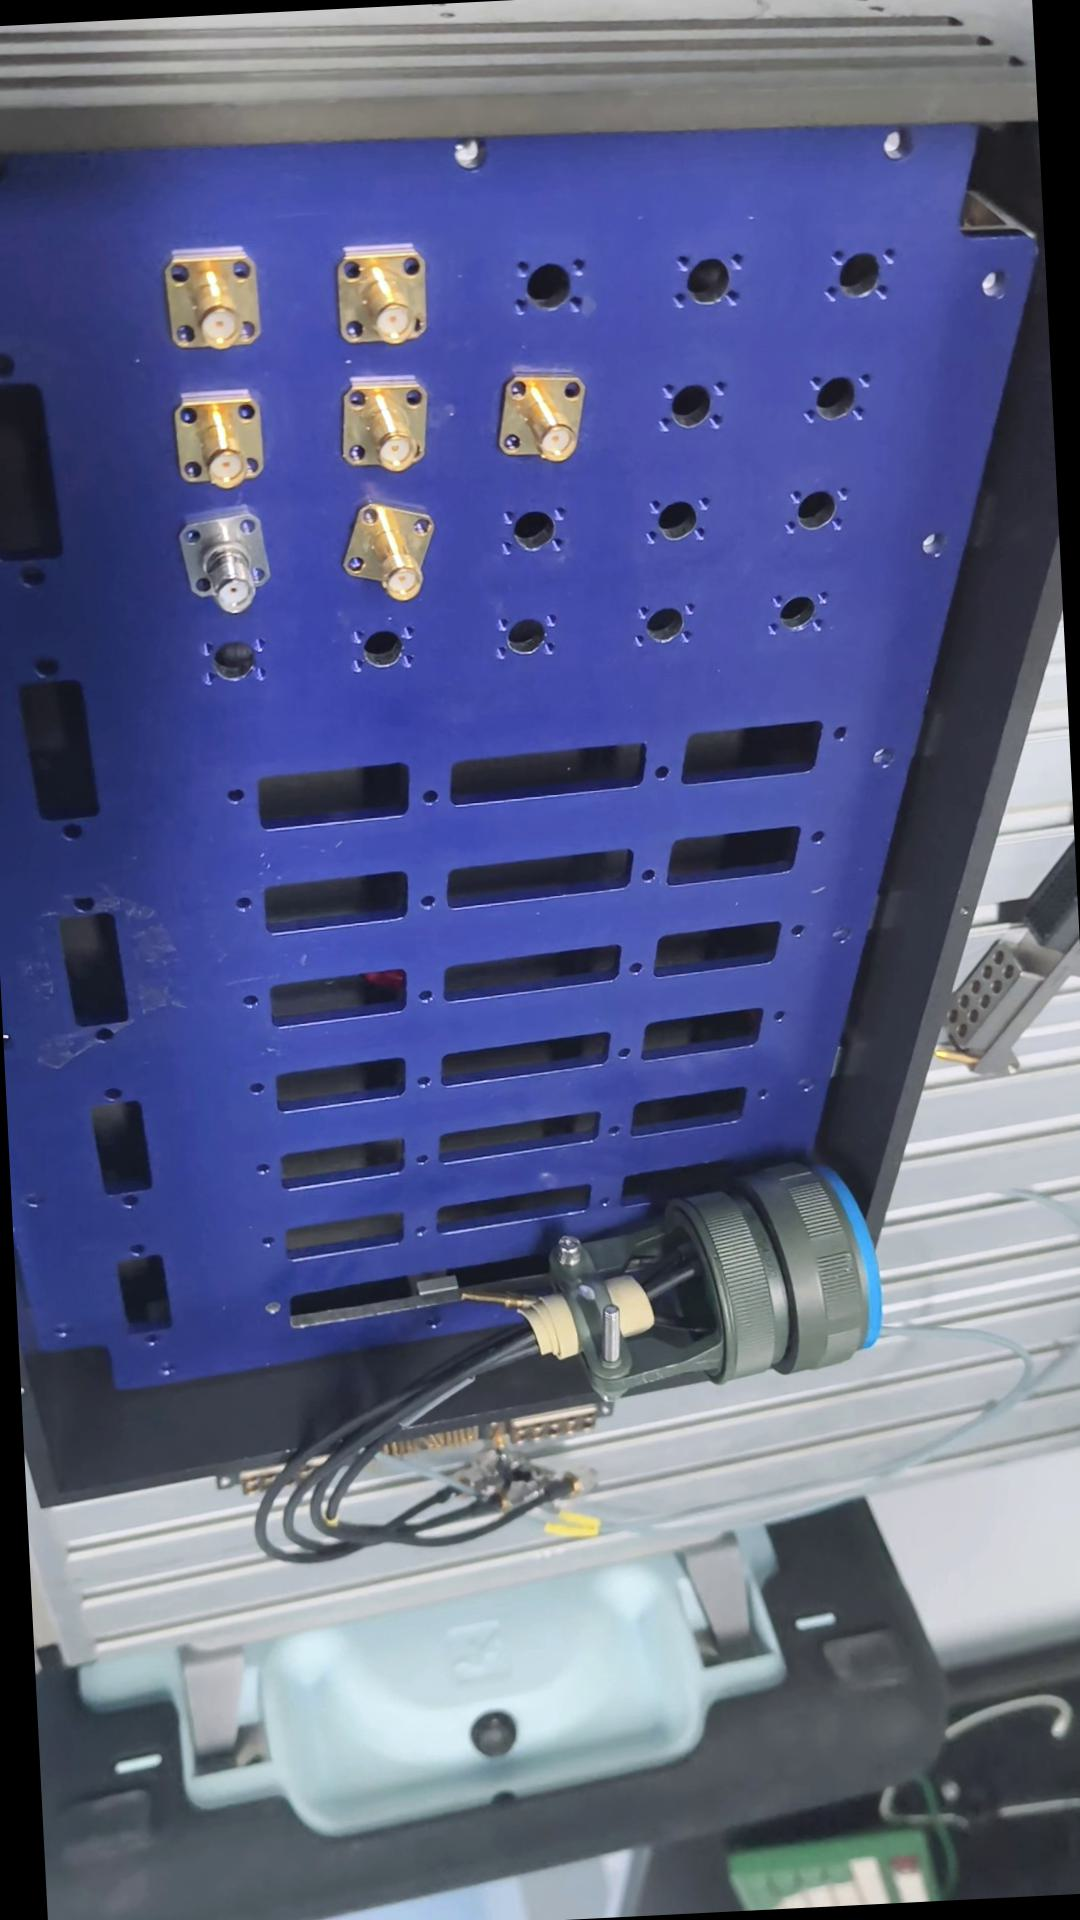SMA: (166, 240, 272, 359), (334, 240, 435, 349), (173, 506, 276, 613), (349, 495, 444, 603), (175, 389, 268, 485), (501, 365, 587, 465), (349, 376, 433, 473)
